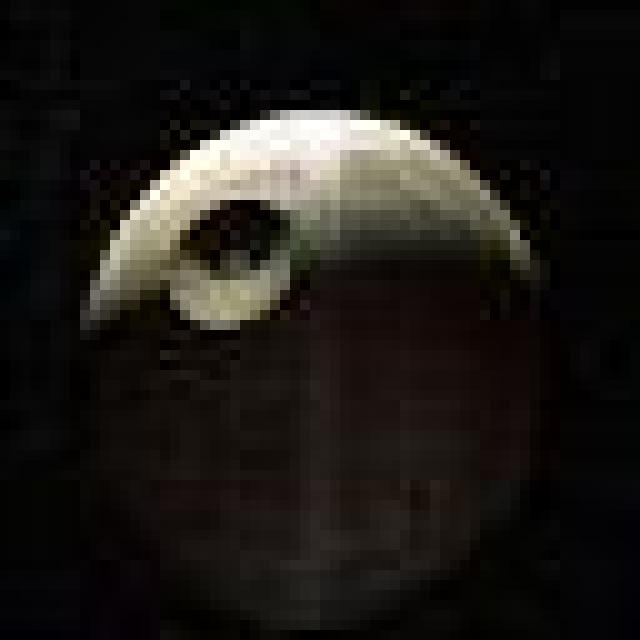Death Star: (101, 111, 570, 623)
